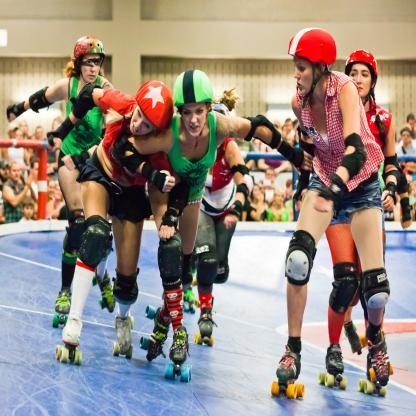Helmet: (295, 26, 345, 94), (135, 78, 177, 130), (344, 45, 378, 102), (174, 68, 214, 111), (72, 35, 112, 70)
